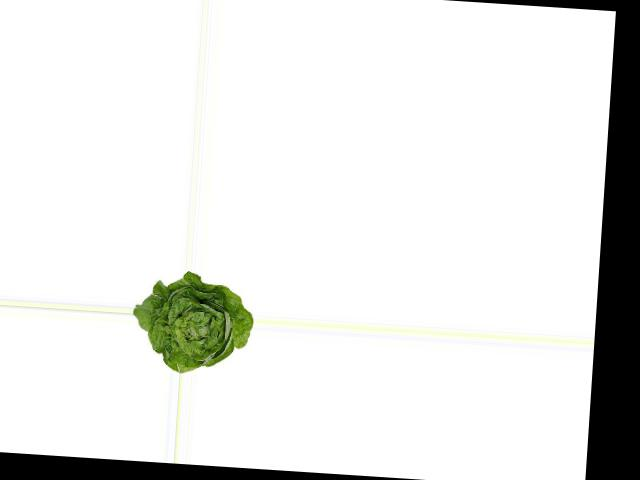lettuce: (133, 268, 257, 376)
